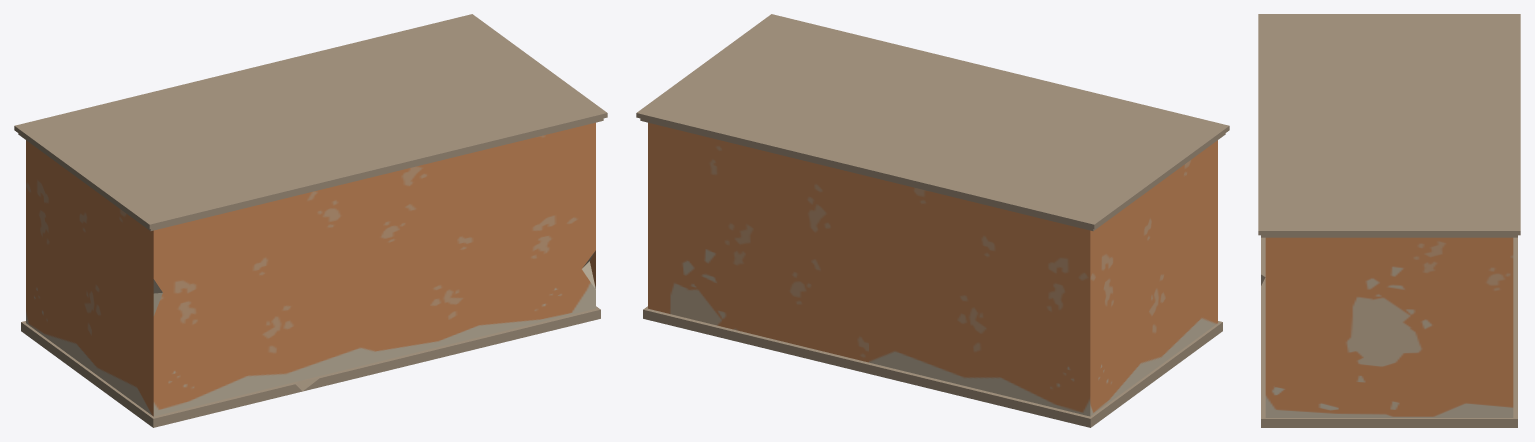
File: SM_Bld_Cuba_Room_Long_01.glb
The picture shows the model from 3 angles, left to right: view 1: azimuth 30°, elevation 25°; view 2: azimuth 150°, elevation 25°; view 3: azimuth 270°, elevation 25°; orthographic projection. The views are drawn at different scales.
Parts seen in each view (by area): view 1: SM_Bld_Cuba_Room_Long_01_part00; view 2: SM_Bld_Cuba_Room_Long_01_part00; view 3: SM_Bld_Cuba_Room_Long_01_part00.
Boxes of the visible parts, x1,y1,x2,y2 form: SM_Bld_Cuba_Room_Long_01_part00: (14,14,607,427); SM_Bld_Cuba_Room_Long_01_part00: (636,14,1229,427); SM_Bld_Cuba_Room_Long_01_part00: (1258,14,1520,427).
Bounding box in the file's own units: 7.76 × 3.33 × 3.97.
Materials: 1 (1 with a texture image).
